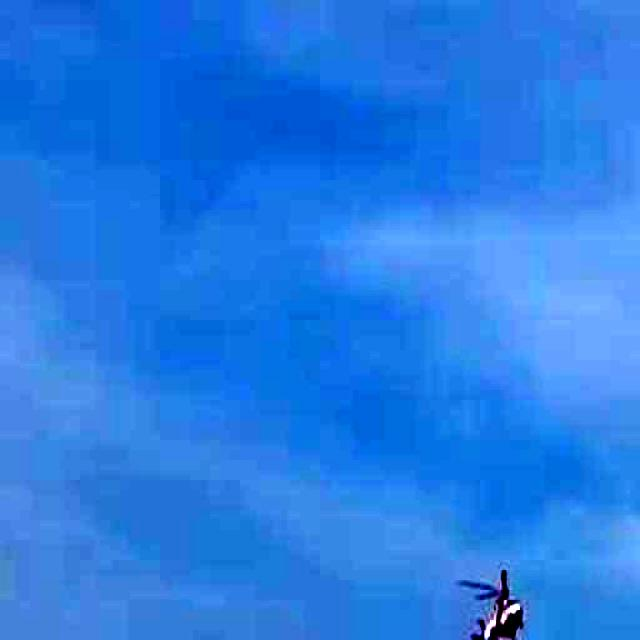drone: (455, 564, 541, 640)
